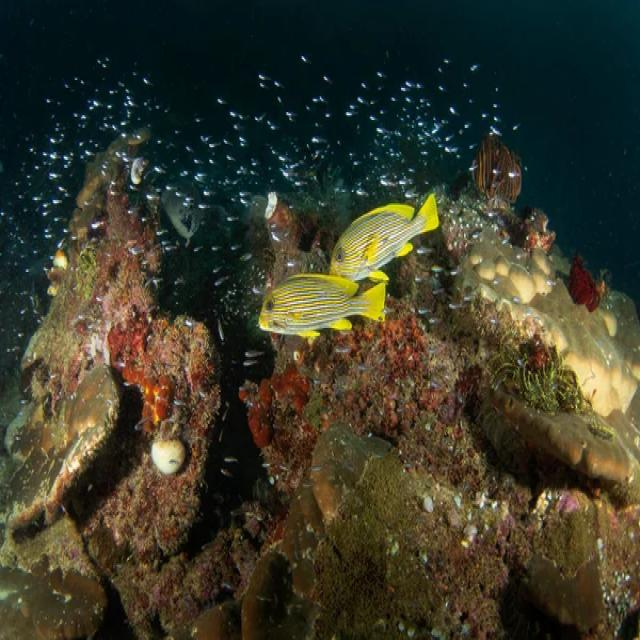RibbonedSweetlips: (329, 193, 440, 284), (258, 274, 386, 340)
